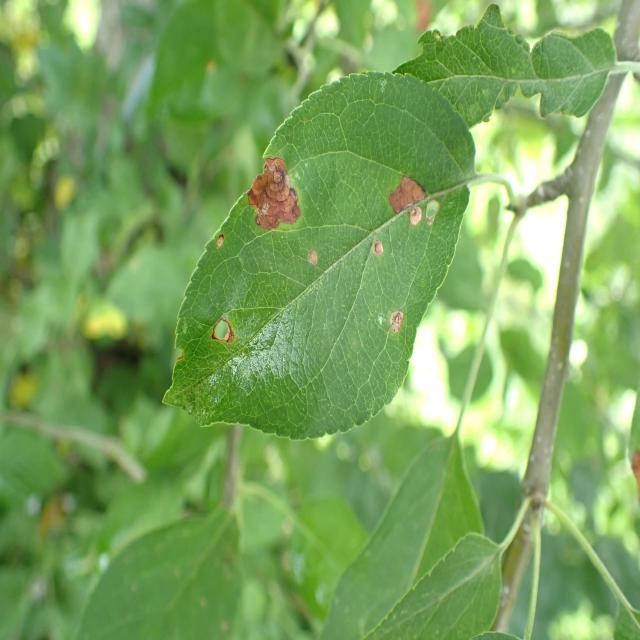Black Rot: (245, 142, 308, 244), (383, 167, 447, 232), (198, 309, 243, 355), (374, 296, 414, 342), (299, 241, 331, 279), (359, 235, 385, 268), (208, 228, 236, 258)
